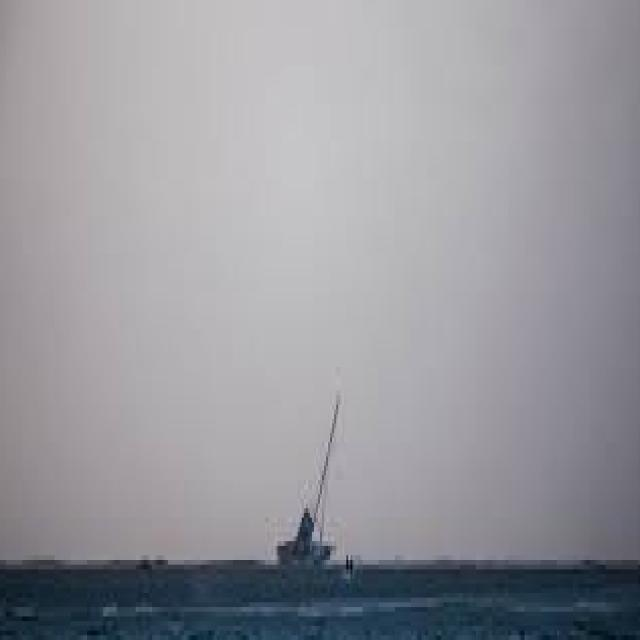fishing boat: (267, 416, 365, 576)
